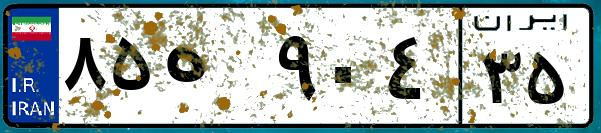0: (330, 28, 385, 110)
3: (475, 38, 525, 113)
4: (385, 28, 445, 110)
5: (525, 38, 570, 115), (110, 28, 158, 98)
8: (57, 26, 110, 100)
9: (270, 28, 330, 110)
ه: (158, 20, 270, 120)
